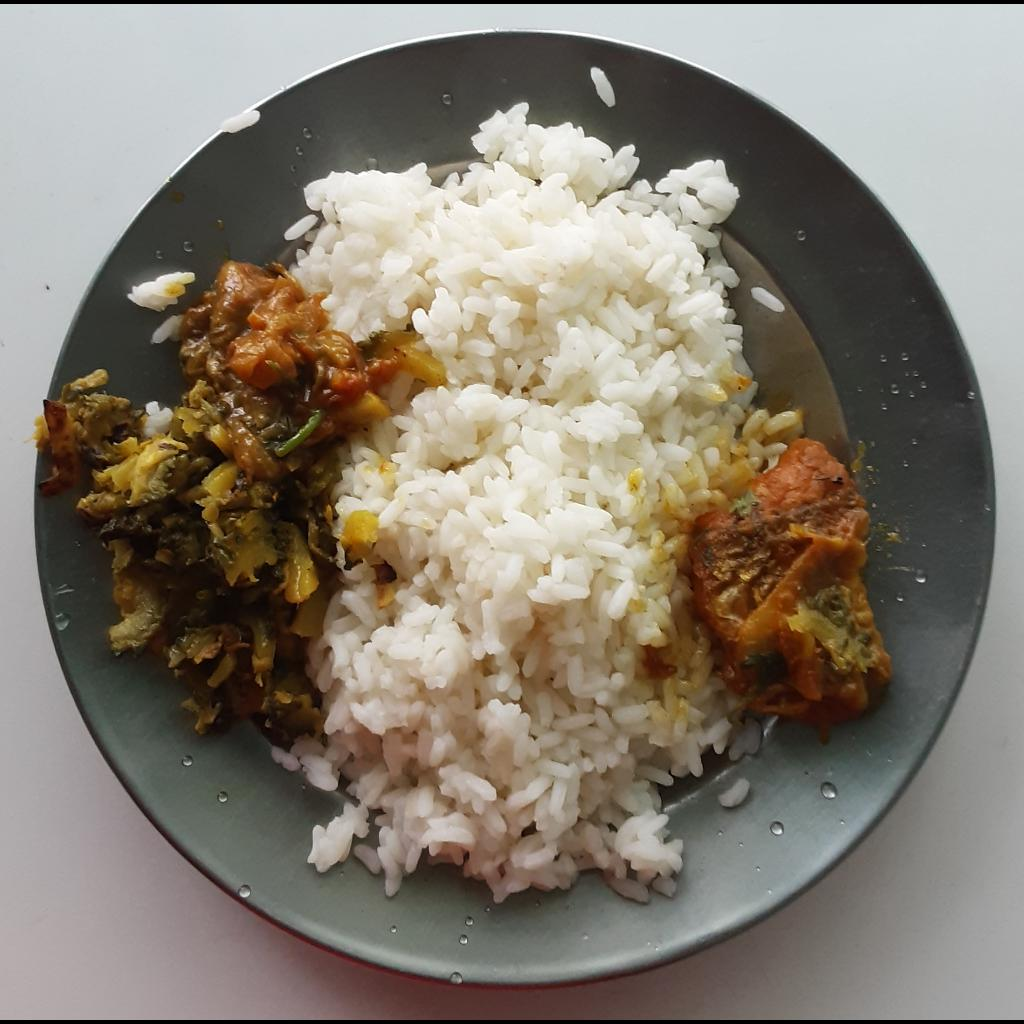fish: (694, 441, 892, 719)
korola-vaji: (35, 366, 338, 744)
rice: (264, 97, 805, 903)
tomato: (175, 259, 439, 484)
